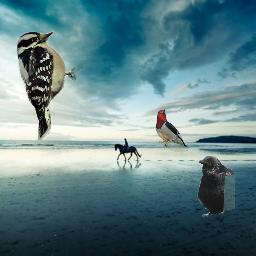Crow: (196, 155, 235, 217)
Woodpecker: (15, 29, 83, 140), (154, 107, 189, 152)
